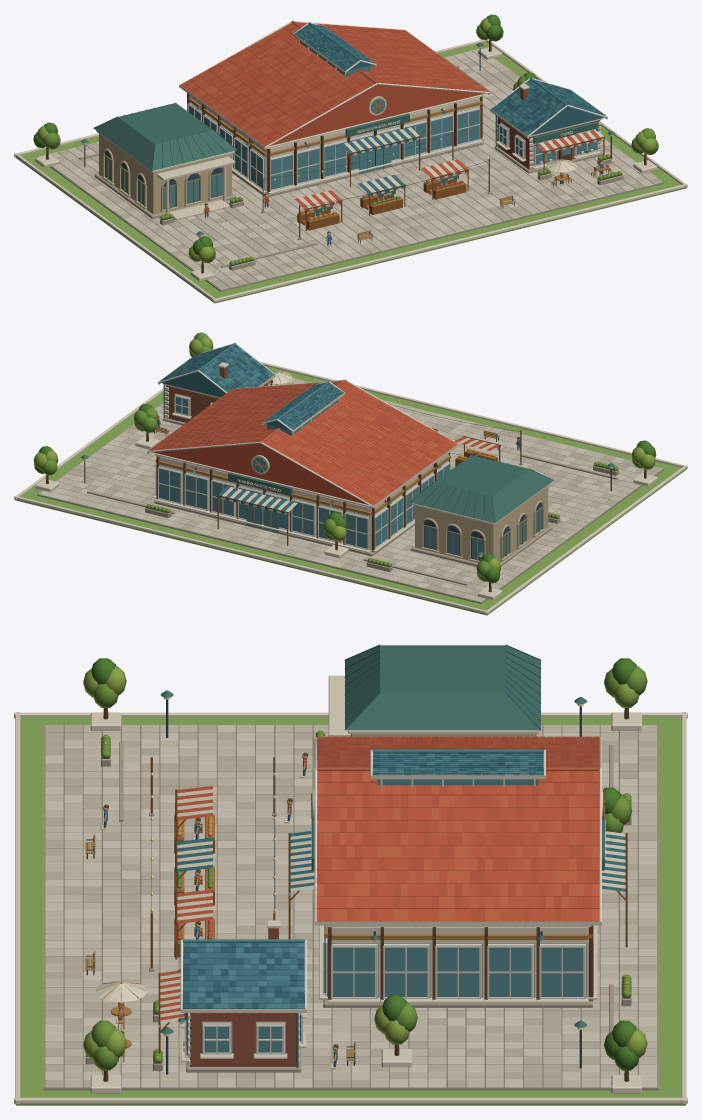
File: level-2.glb
3 views of the same model, one above another, from view 1: azimuth 30°, elevation 25°; view 2: azimuth 150°, elevation 25°; view 3: azimuth 270°, elevation 25° (orthographic). The views are drawn at different scales.
Parts seen in each view (by area): view 1: finance_level_2_geometry; view 2: finance_level_2_geometry; view 3: finance_level_2_geometry.
Boxes of the visible parts, bbox=[...] form: finance_level_2_geometry: bbox=[14, 14, 687, 303]; finance_level_2_geometry: bbox=[14, 332, 687, 615]; finance_level_2_geometry: bbox=[14, 644, 687, 1105].
Bounding box in the file's own units: 60 × 12.71 × 44.
